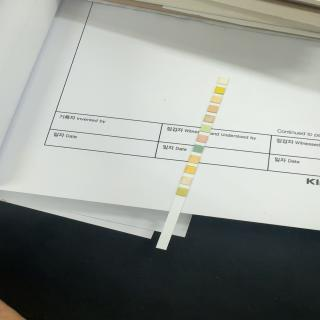mark: (190, 155, 200, 163), (193, 145, 203, 153), (198, 134, 208, 142), (201, 124, 211, 132), (177, 188, 188, 195), (182, 177, 192, 184), (186, 166, 196, 173), (208, 105, 218, 112), (215, 87, 225, 94), (212, 96, 222, 102), (206, 115, 214, 122), (219, 78, 227, 84)
